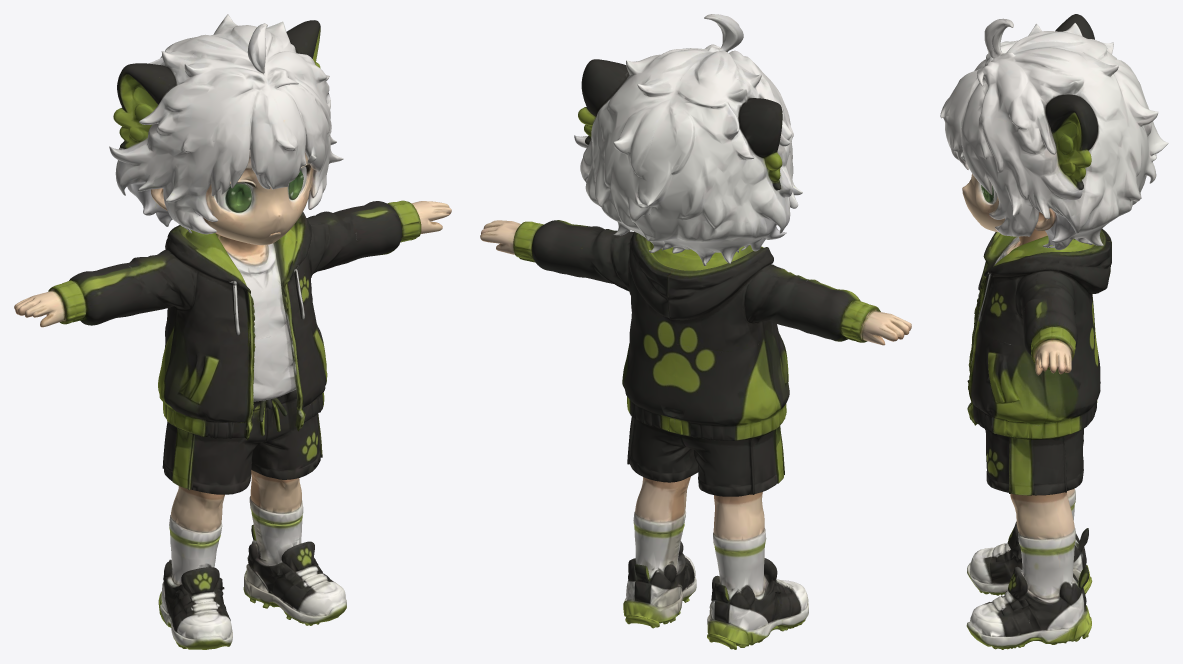
File: xiaohei-avatar-hi3d-rig-web-v2.glb
3 views of the same model, side by side, from view 1: azimuth 30°, elevation 25°; view 2: azimuth 150°, elevation 25°; view 3: azimuth 270°, elevation 25° (orthographic).
Parts seen in each view (by area): view 1: xiaohei-avatar-rig-source; view 2: xiaohei-avatar-rig-source; view 3: xiaohei-avatar-rig-source.
Boxes of the visible parts, x1,y1,x2,y2 form: xiaohei-avatar-rig-source: [14, 14, 451, 649]; xiaohei-avatar-rig-source: [480, 14, 911, 649]; xiaohei-avatar-rig-source: [940, 14, 1168, 649].
Bounding box in the file's own units: 0.7481 × 0.9998 × 0.3461.
1 material, 1 textured.
